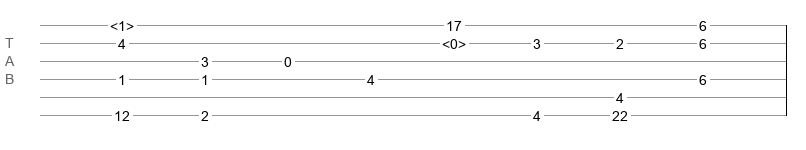0: (284, 54, 292, 64)
1: (118, 72, 126, 82), (201, 72, 209, 82)
12: (114, 108, 130, 118)
17: (446, 18, 462, 28)
2: (201, 108, 209, 118), (616, 36, 624, 46)
22: (612, 108, 628, 118)
3: (201, 54, 209, 64), (533, 36, 541, 46)
4: (118, 36, 126, 46), (367, 72, 375, 82), (533, 108, 541, 118), (616, 90, 624, 100)
6: (699, 18, 707, 28), (699, 72, 707, 82), (699, 36, 707, 46)
harmonic: (110, 18, 134, 28), (442, 36, 466, 46)
